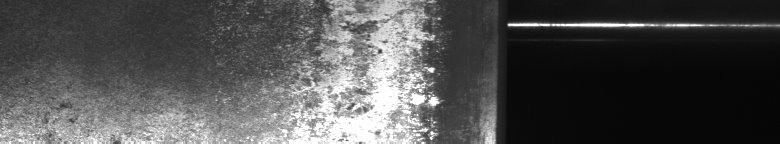kb: (212, 4, 451, 136)
